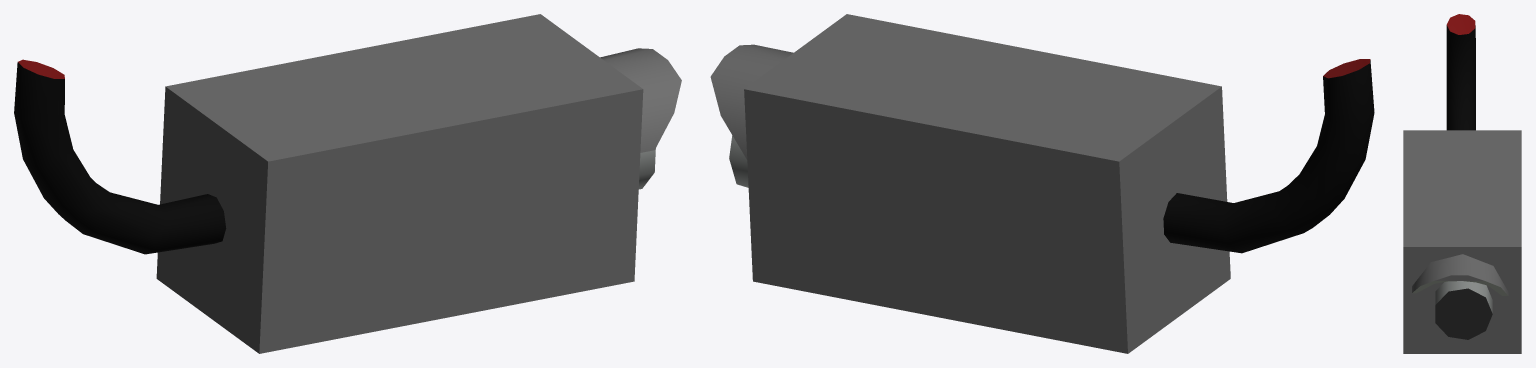
Rendered from cam.obj.
3 renders of one model, left to right at view 1: azimuth 30°, elevation 25°; view 2: azimuth 150°, elevation 25°; view 3: azimuth 270°, elevation 25°, orthographic. The views are drawn at different scales.
Visible parts, largest first — view 1: Solid1; view 2: Solid1; view 3: Solid1.
Part boxes in pixels (x1=…): Solid1: x1=14, y1=14, x2=681, y2=353; Solid1: x1=710, y1=14, x2=1374, y2=353; Solid1: x1=1403, y1=14, x2=1521, y2=353.
Bounding box in the file's own units: 1.44 × 0.6779 × 0.4.
